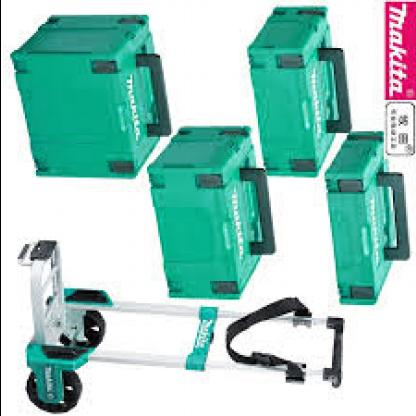Tool Box: (5, 12, 178, 184), (140, 121, 281, 302), (242, 2, 354, 182), (321, 129, 415, 309)
